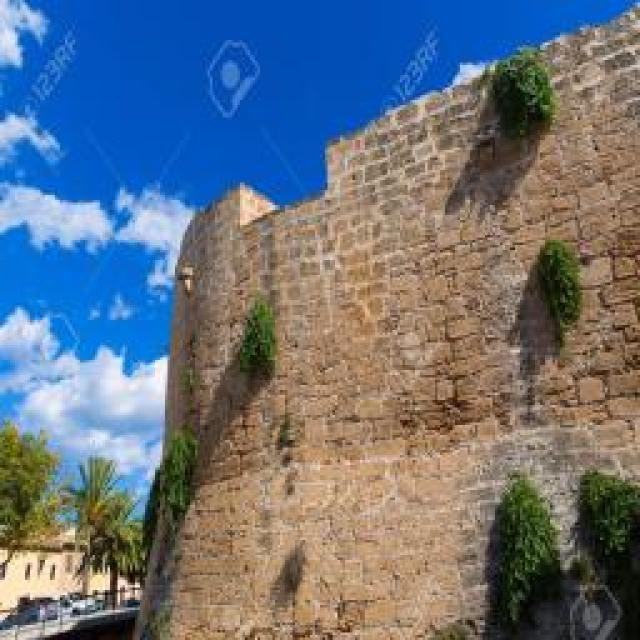Crack: (132, 4, 638, 638)
